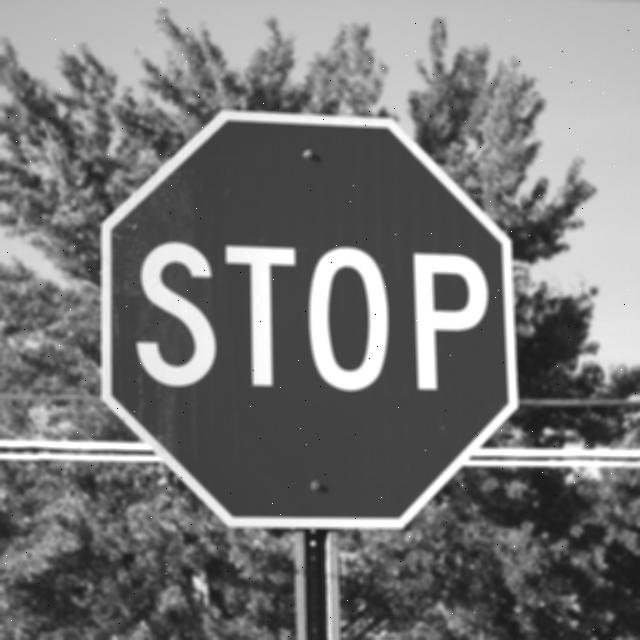Stop-sign: (96, 63, 520, 544)
